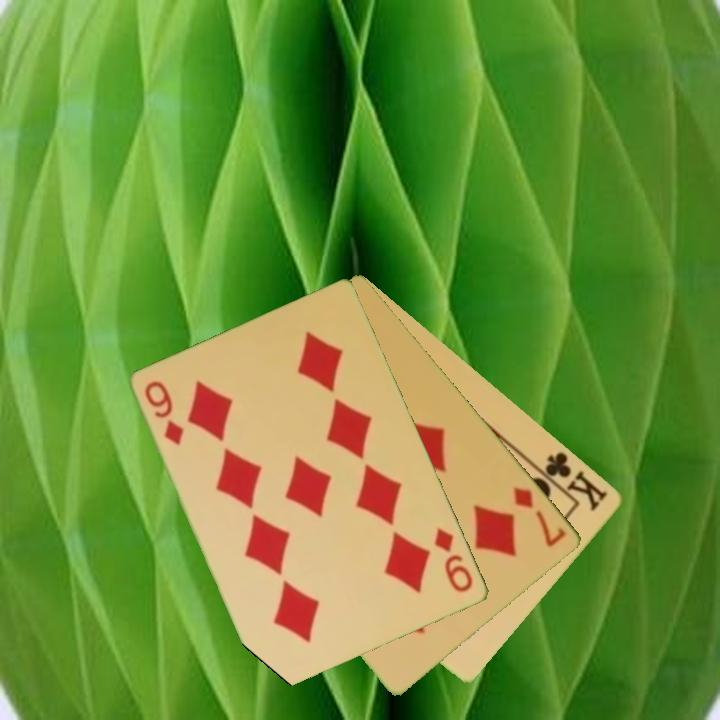7d: (510, 482, 570, 550)
9d: (431, 524, 477, 596), (141, 377, 187, 449)
Kc: (533, 448, 611, 515)
